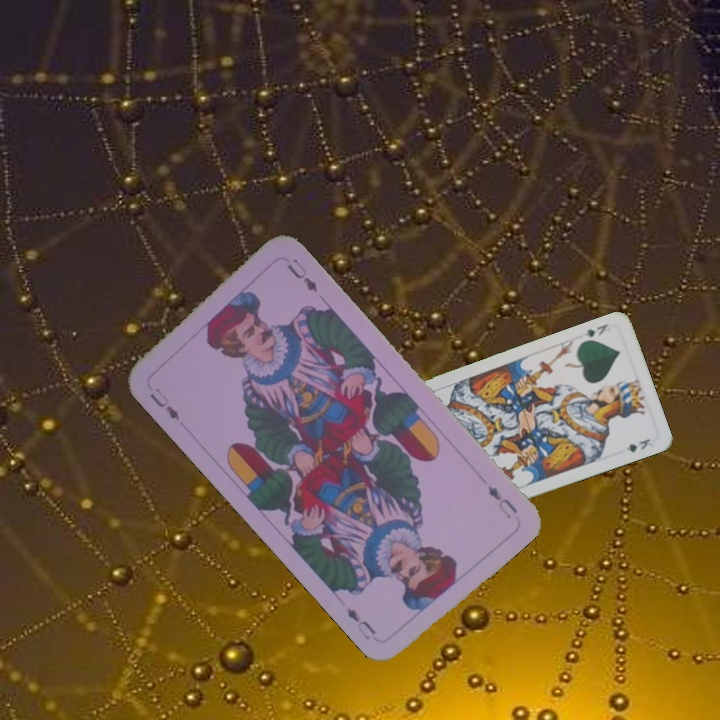EU: (145, 384, 183, 424), (483, 481, 520, 522)
GK: (582, 319, 610, 340)
